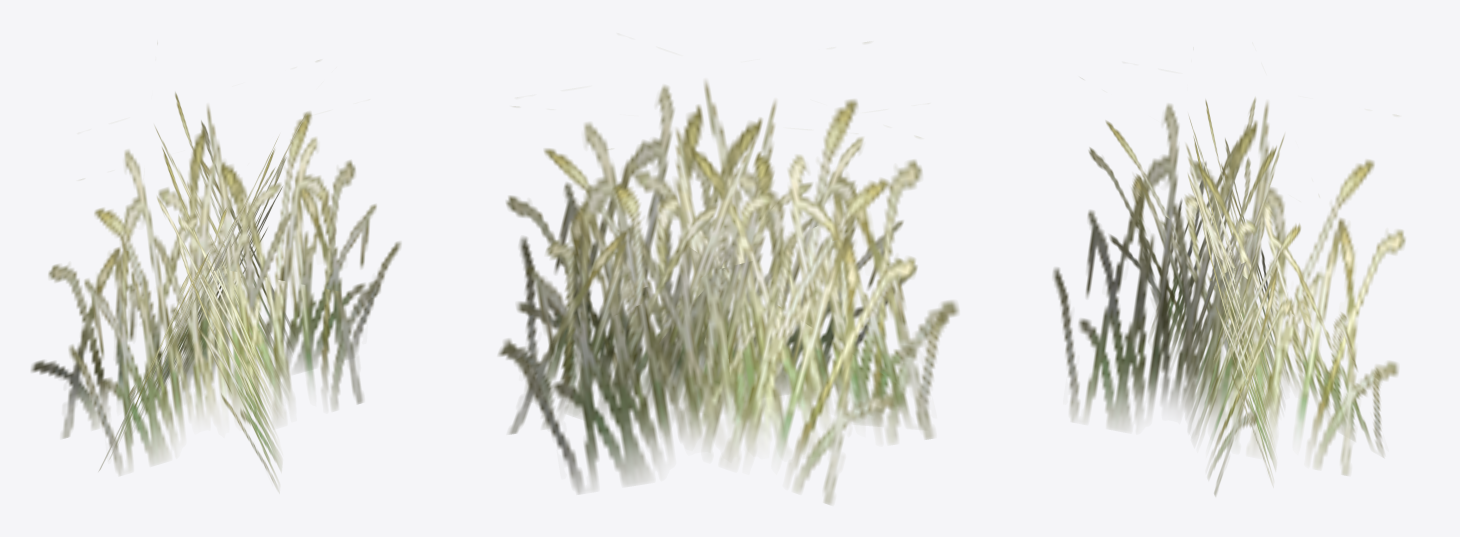
Rendered from grass-08.glb.
3 renders of one model, left to right at view 1: azimuth 30°, elevation 25°; view 2: azimuth 150°, elevation 25°; view 3: azimuth 270°, elevation 25°, orthographic. The views are drawn at different scales.
Parts seen in each view (by area): view 1: cross_large_short; view 2: cross_large_short; view 3: cross_large_short.
Boxes of the visible parts, box(x1,y1,x2,y2) form: cross_large_short: box(31, 43, 400, 492); cross_large_short: box(498, 42, 958, 504); cross_large_short: box(1053, 97, 1405, 496).
Bounding box in the file's own units: 5.38 × 4.12 × 4.74.
Materials: 1 (1 with a texture image).
